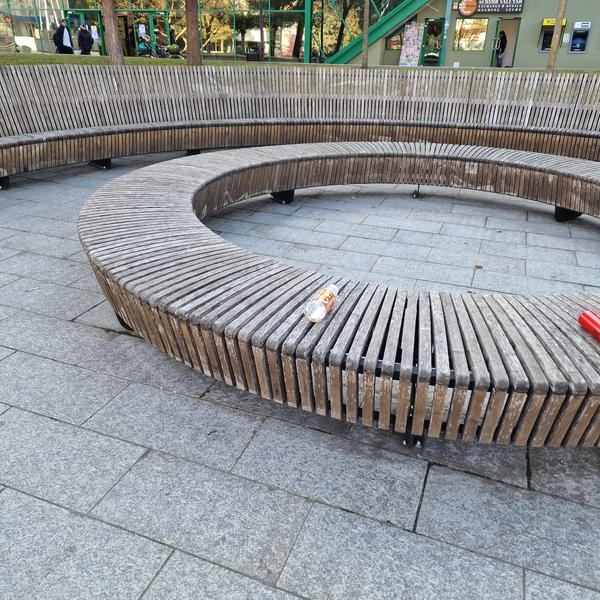can: (577, 310, 600, 344)
plastic_bottle: (299, 277, 344, 327)
